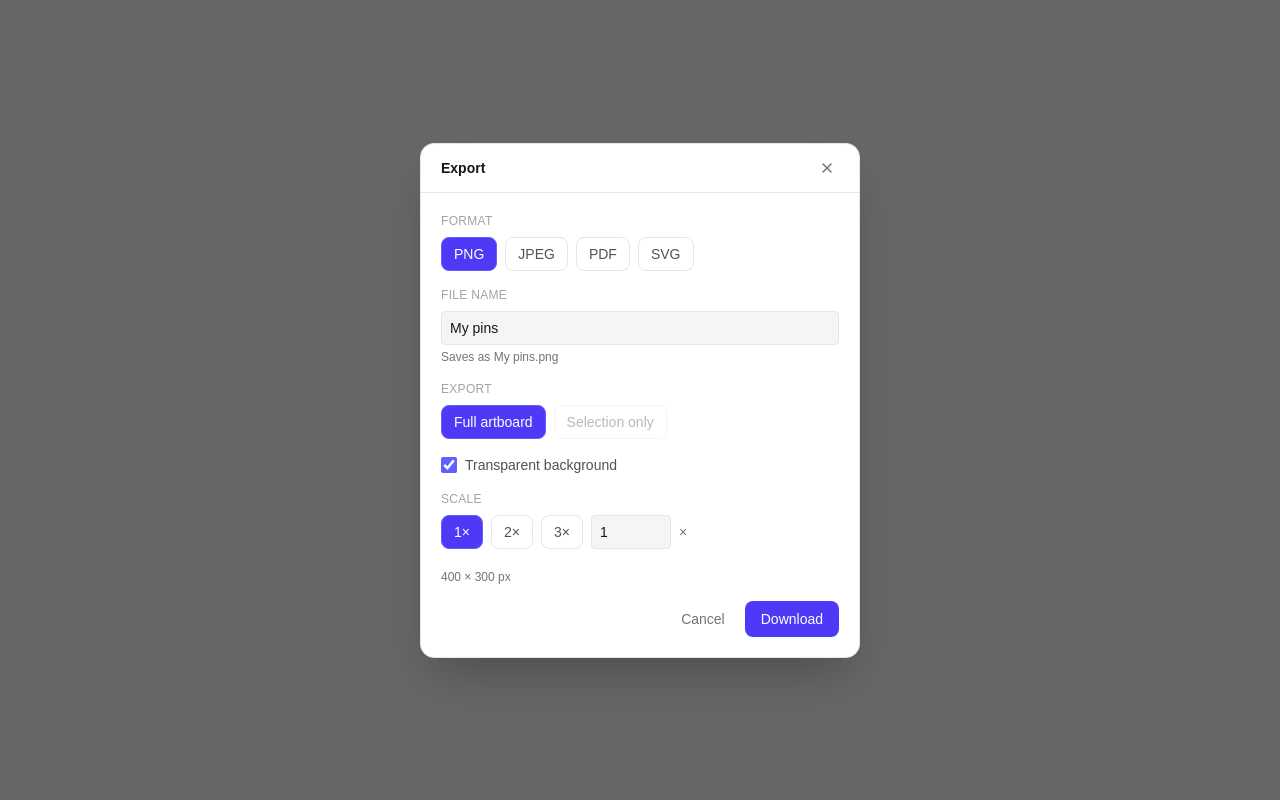
Test: ExportModal — export options (UX-028) › blocks a scale out of range or an export too large to allocate
The image size is (1280, 800).
Replace the text in the number field named "Custom scale" with "0" at (631, 532), box [591, 514, 671, 548]
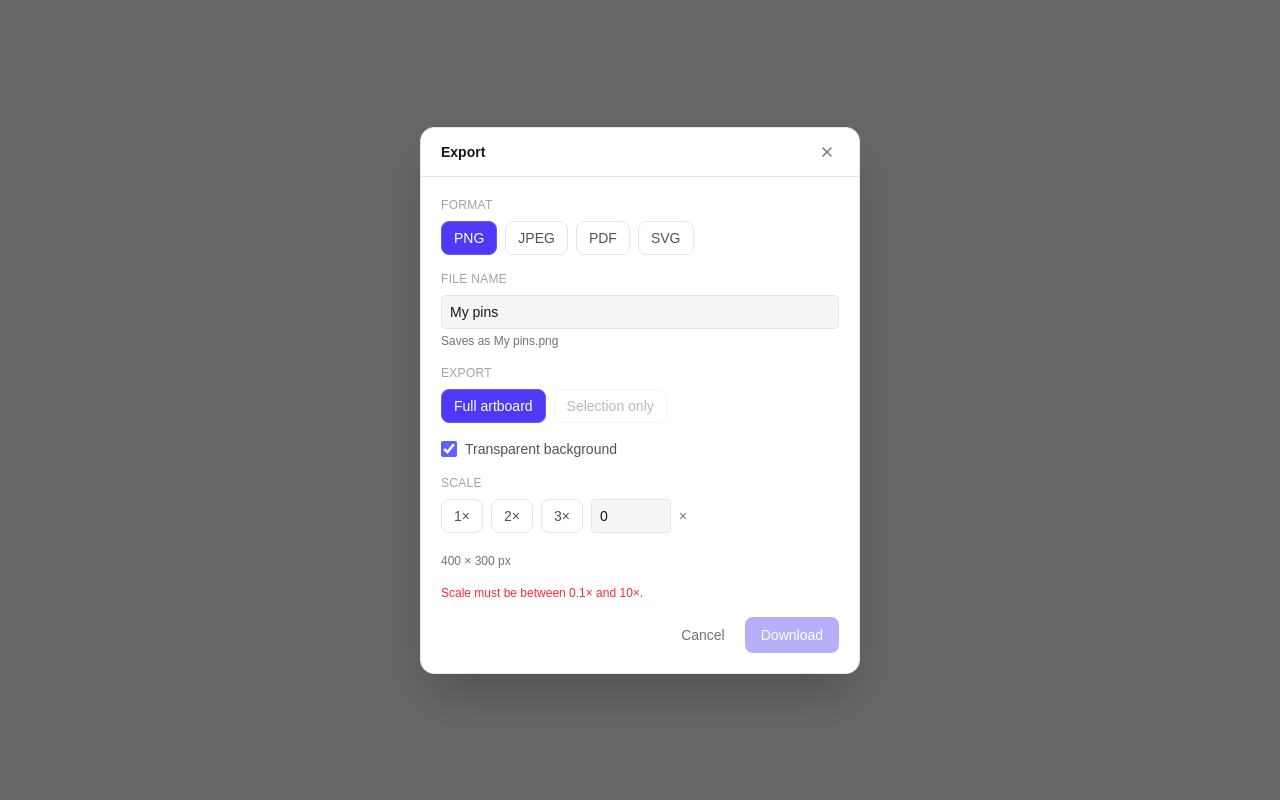
Now the message shows "Scale must be between", box [441, 586, 643, 600]
Now the button "Download" is disabled, box [745, 616, 839, 652]
Clear the number field named "Custom scale" at (631, 516), box [591, 498, 671, 532]
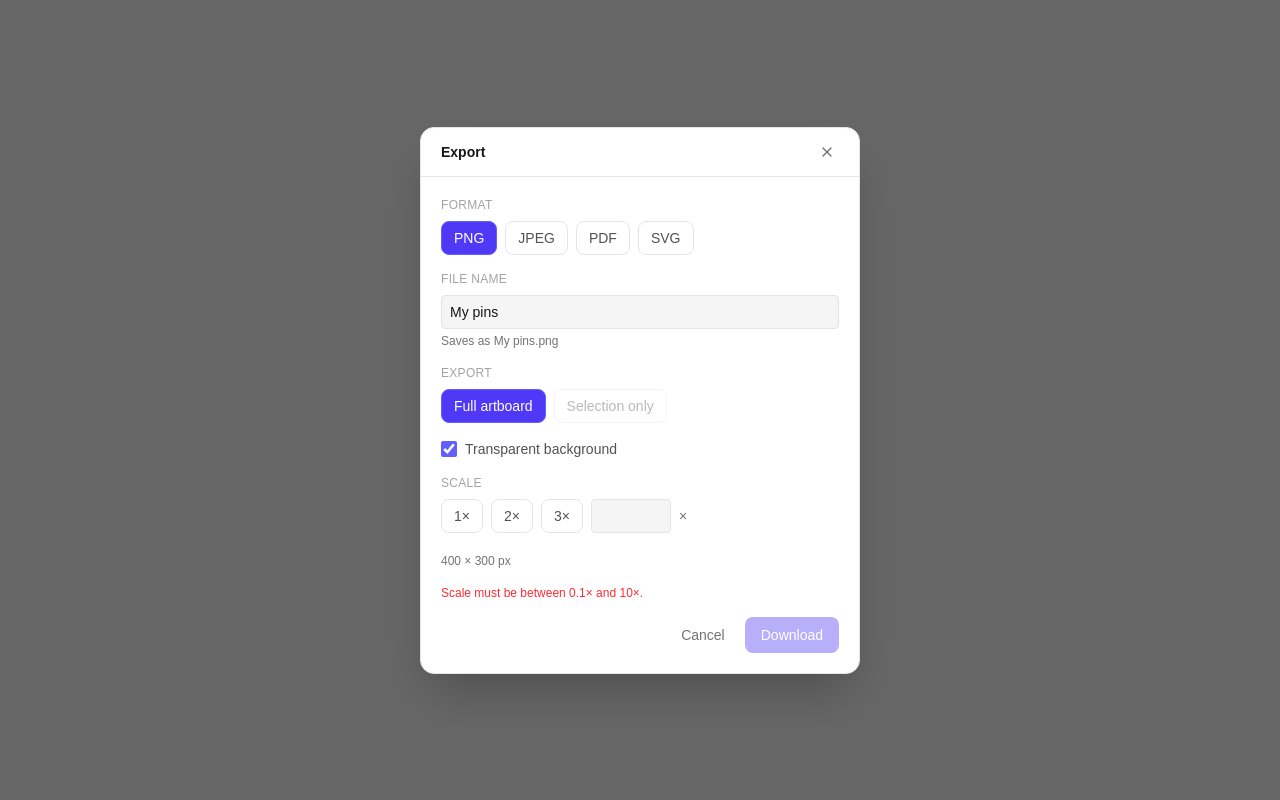
Now the button "Download" is disabled, box [745, 616, 839, 652]
Type "10" into the number field named "Custom scale" at (631, 516), box [591, 498, 671, 532]
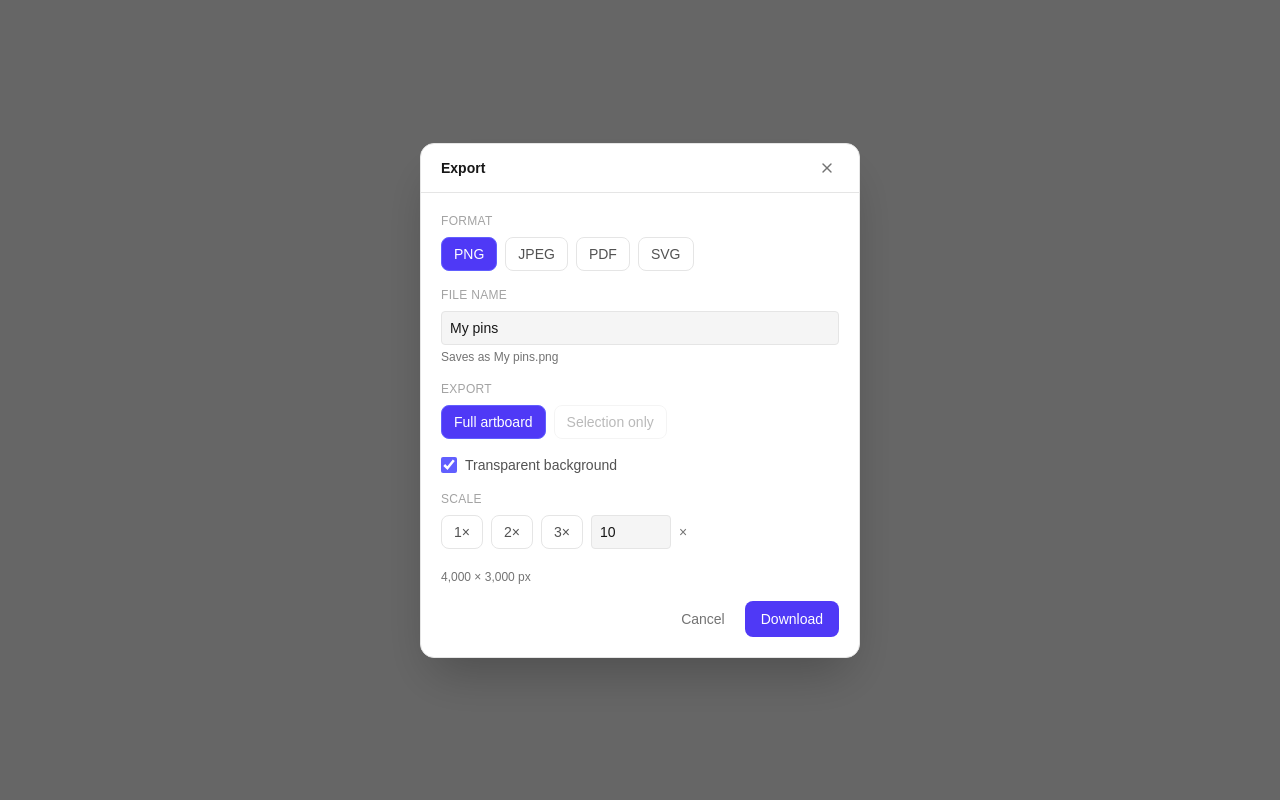
Now the button "Download" is enabled, box [745, 600, 839, 636]
